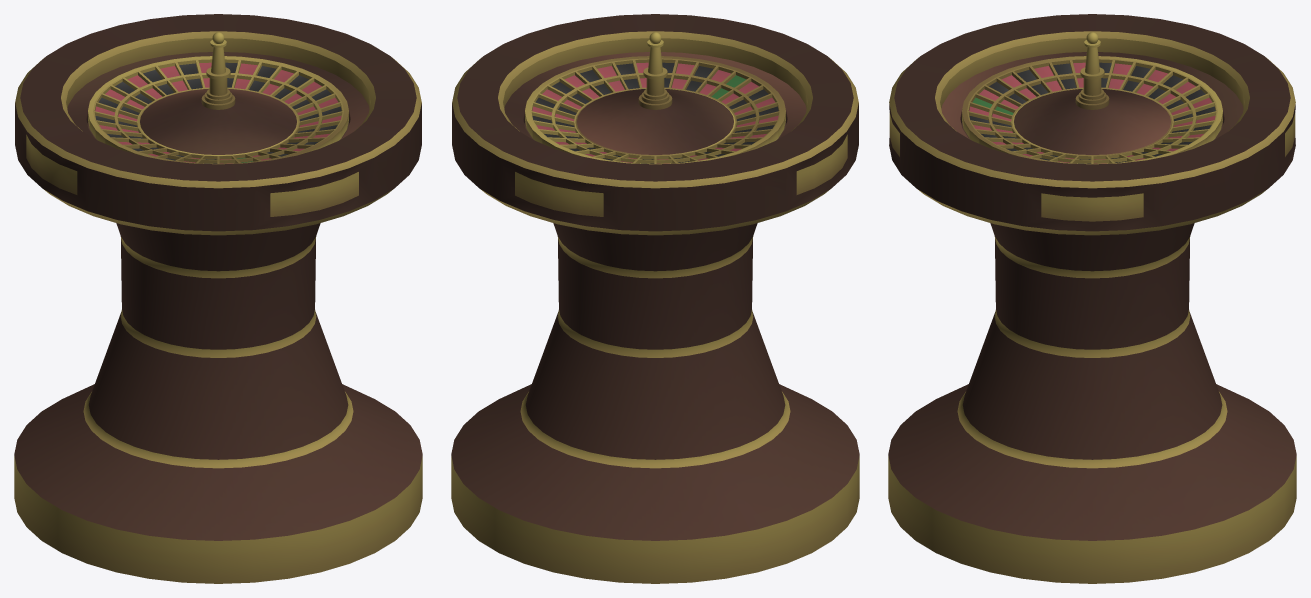
The model's file is Roulette.fbx.
The picture shows the model from 3 angles, left to right: view 1: azimuth 30°, elevation 25°; view 2: azimuth 150°, elevation 25°; view 3: azimuth 270°, elevation 25°; orthographic projection.
Parts seen in each view (by area): view 1: RouletteBase_Mdl, RouletteSpin_Mdl; view 2: RouletteBase_Mdl, RouletteSpin_Mdl; view 3: RouletteBase_Mdl, RouletteSpin_Mdl.
Boxes of the visible parts, left/top/right/bottom form: RouletteBase_Mdl: left=14, top=14, right=422, bottom=583; RouletteSpin_Mdl: left=88, top=32, right=348, bottom=164; RouletteBase_Mdl: left=451, top=14, right=859, bottom=583; RouletteSpin_Mdl: left=525, top=32, right=785, bottom=164; RouletteBase_Mdl: left=888, top=14, right=1296, bottom=583; RouletteSpin_Mdl: left=962, top=32, right=1222, bottom=164.
Bounding box in the file's own units: 20.09 × 25.23 × 20.09.
Materials: 1 (1 with a texture image).
